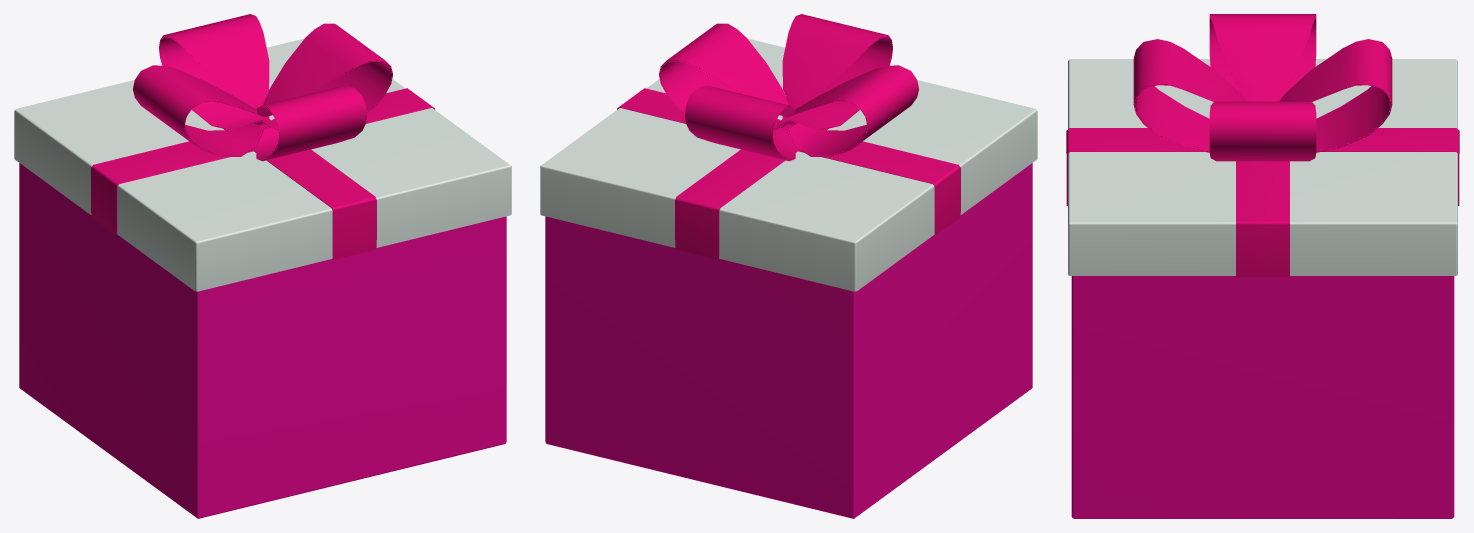
The model's file is gift_pink.glb.
3 renders of one model, left to right at view 1: azimuth 30°, elevation 25°; view 2: azimuth 150°, elevation 25°; view 3: azimuth 270°, elevation 25°, orthographic. The views are drawn at different scales.
Parts seen in each view (by area): view 1: SK_GiftBox.008, SK_GiftBox.007, SK_GiftBox.006; view 2: SK_GiftBox.008, SK_GiftBox.007, SK_GiftBox.006; view 3: SK_GiftBox.008, SK_GiftBox.007, SK_GiftBox.006.
Boxes of the visible parts, x1,y1,x2,y2 form: SK_GiftBox.008: (19,163,506,518); SK_GiftBox.007: (14,38,511,291); SK_GiftBox.006: (91,14,434,259); SK_GiftBox.008: (545,163,1032,518); SK_GiftBox.007: (540,38,1037,291); SK_GiftBox.006: (617,14,960,259); SK_GiftBox.008: (1071,276,1454,518); SK_GiftBox.007: (1068,59,1457,275); SK_GiftBox.006: (1066,14,1459,277).
Bounding box in the file's own units: 1.88 × 2 × 1.88.
